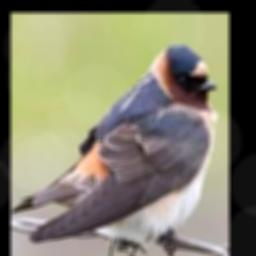Swallow: (11, 44, 218, 245)
